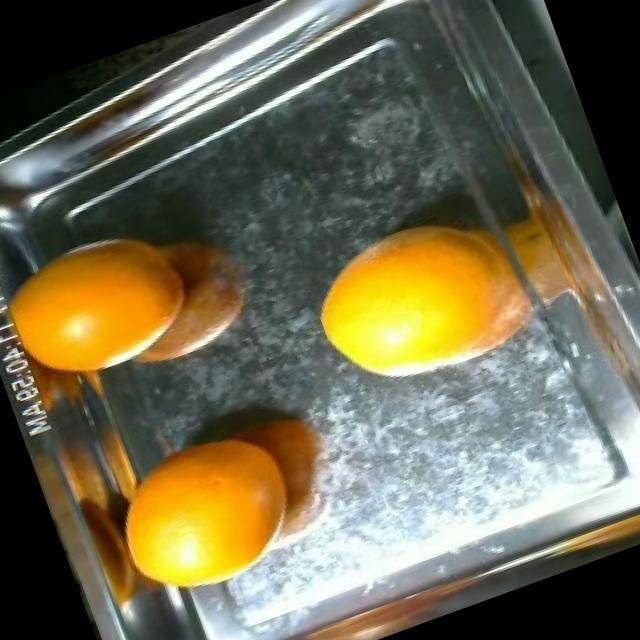Fruit: (276, 188, 530, 422), (76, 390, 332, 620), (0, 195, 218, 408)
